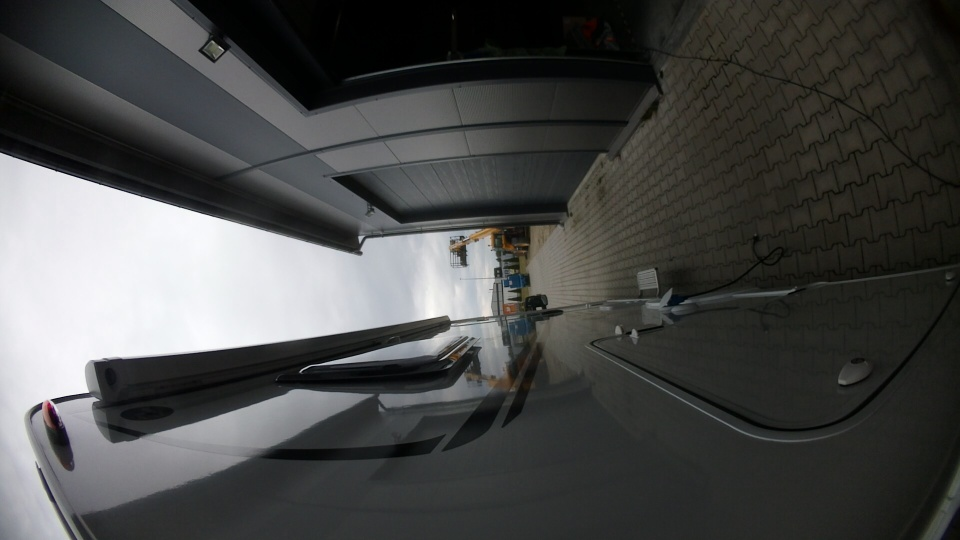step_back: (628, 263, 664, 300)
